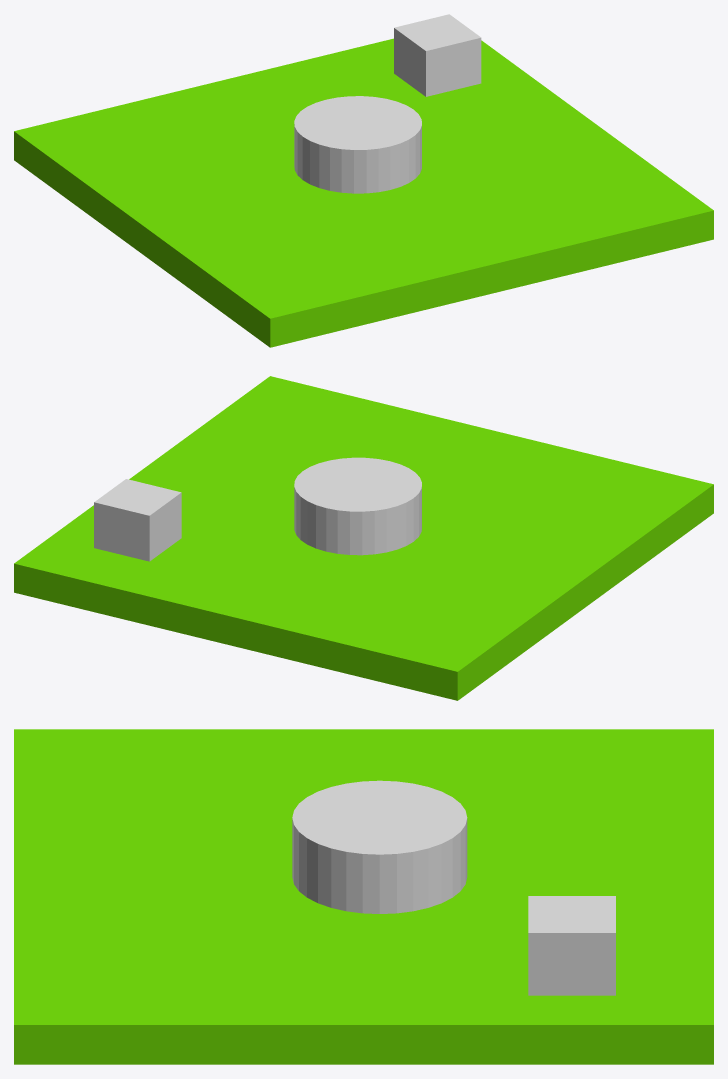
File: BlockTypeMiddle-3.fbx
The picture shows the model from 3 angles, top to bottom: view 1: azimuth 30°, elevation 25°; view 2: azimuth 150°, elevation 25°; view 3: azimuth 270°, elevation 25°; orthographic projection. The views are drawn at different scales.
Visible parts, largest first — view 1: Cube, Cylinder, Cube.002; view 2: Cube, Cylinder, Cube.002; view 3: Cube, Cylinder, Cube.002.
Boxes of the visible parts, x1,y1,x2,y2 form: Cube: (14, 38, 713, 347); Cylinder: (294, 96, 421, 193); Cube.002: (394, 14, 481, 96); Cube: (14, 376, 713, 700); Cylinder: (294, 457, 421, 555); Cube.002: (94, 479, 181, 561); Cube: (14, 729, 713, 1064); Cylinder: (292, 780, 467, 913); Cube.002: (528, 896, 615, 995).
Size of the model in its own units: 800 by 204 by 800.
